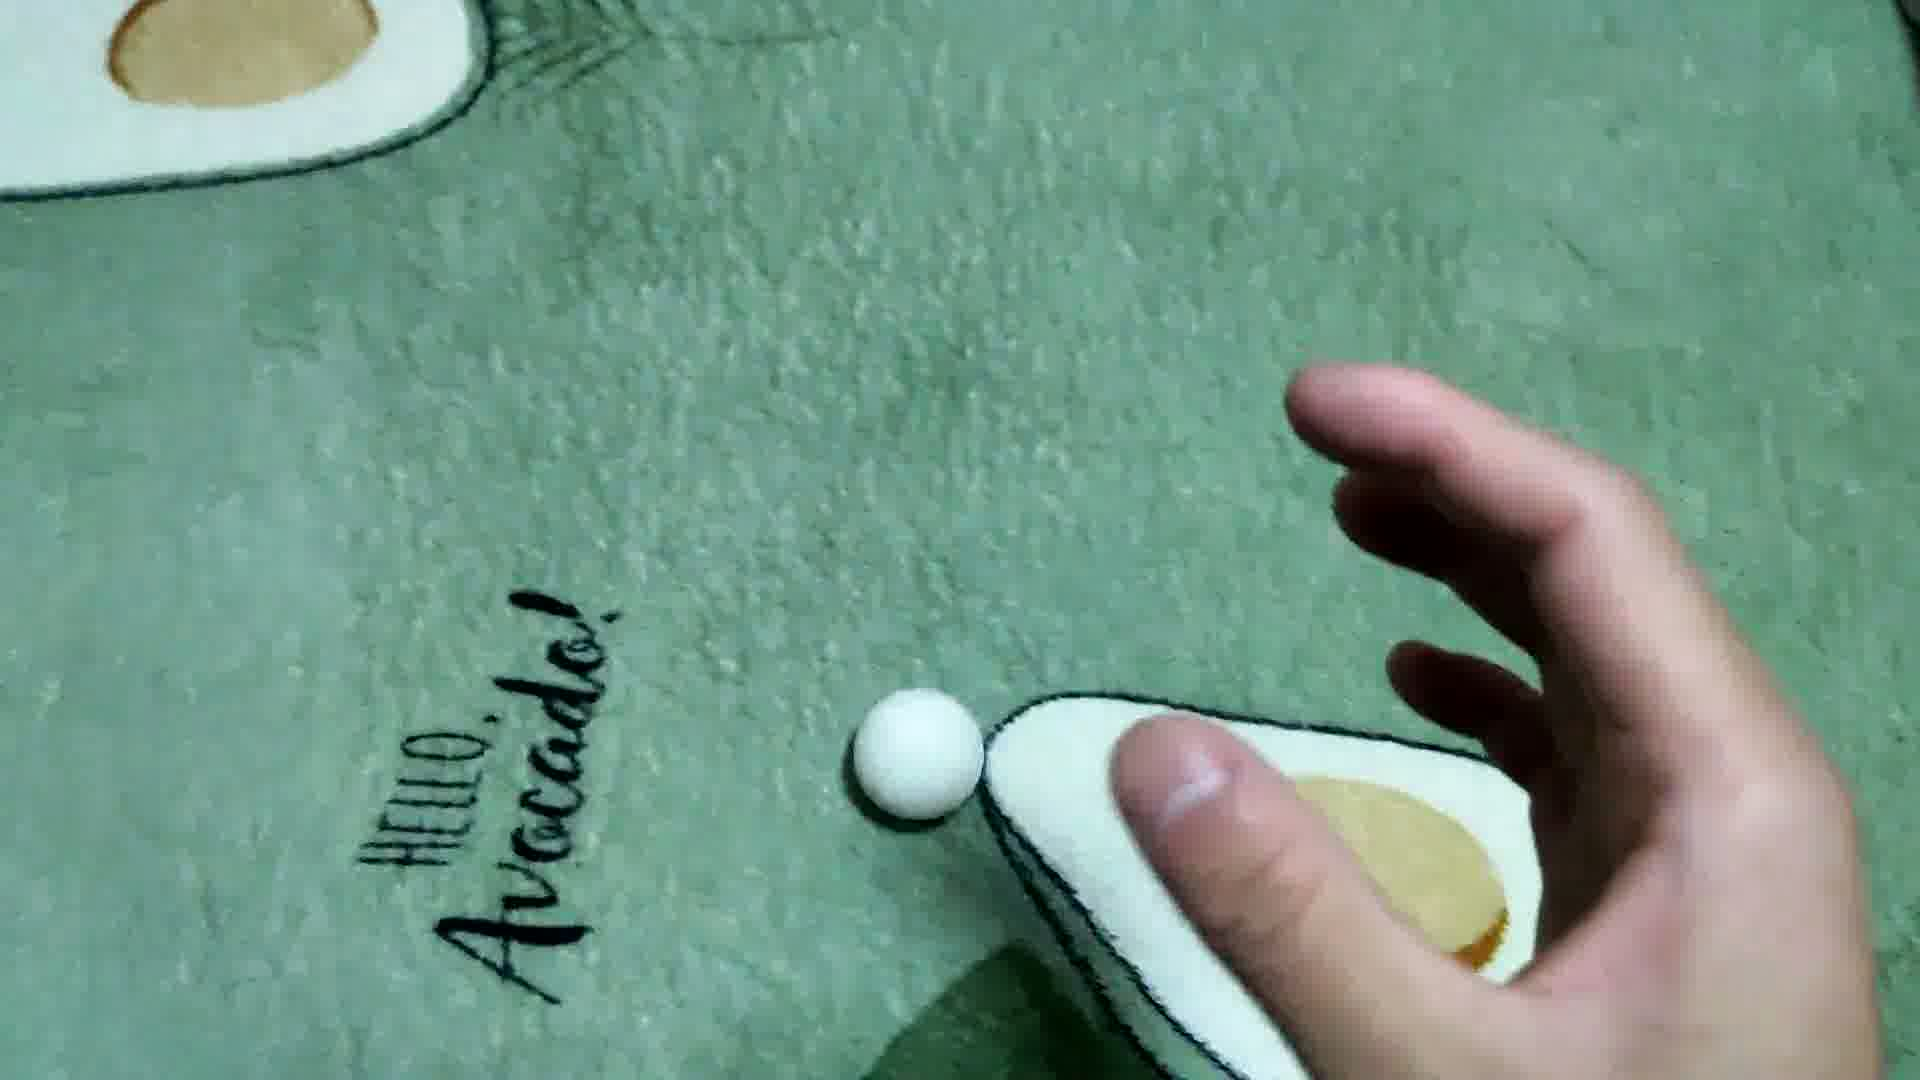Ball: (849, 684, 985, 824)
